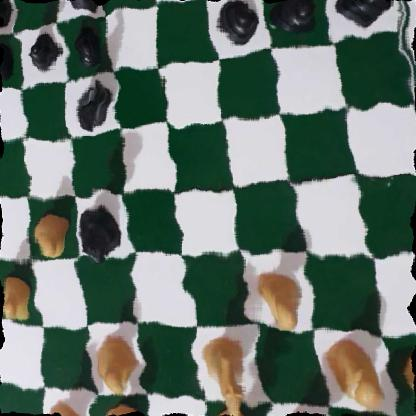black-bishop: (58, 0, 103, 17), (332, 411, 416, 416)
black-knight: (75, 75, 117, 132)
black-pawn: (214, 0, 259, 49), (271, 0, 320, 37), (332, 0, 392, 30), (70, 21, 105, 69), (23, 27, 57, 76), (0, 39, 14, 82)
black-queen: (73, 204, 123, 264)
black-rook: (0, 0, 12, 32)
white-bishop: (101, 401, 154, 416), (276, 413, 342, 416)
white-king: (209, 402, 278, 416)
white-knight: (201, 329, 262, 416)
white-pawn: (318, 341, 387, 410), (250, 266, 301, 329), (96, 331, 139, 394), (28, 207, 73, 257), (0, 275, 34, 324), (401, 348, 416, 416)
white-rook: (43, 398, 95, 416)
